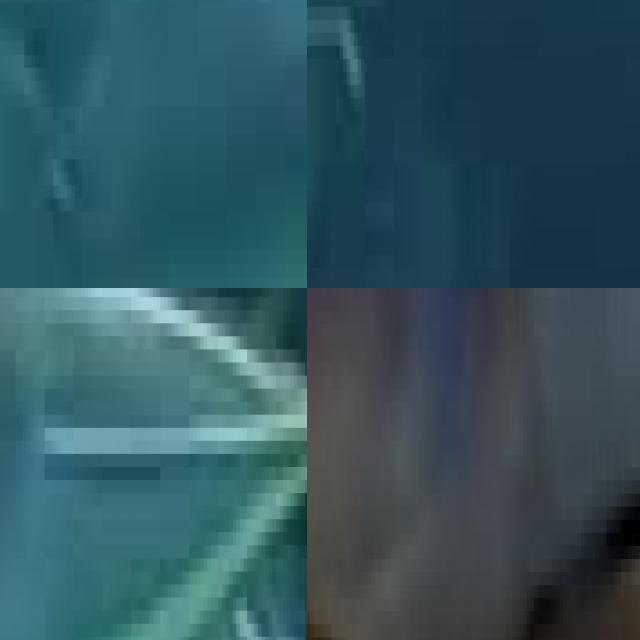fish: (307, 288, 640, 640), (0, 0, 307, 288)
